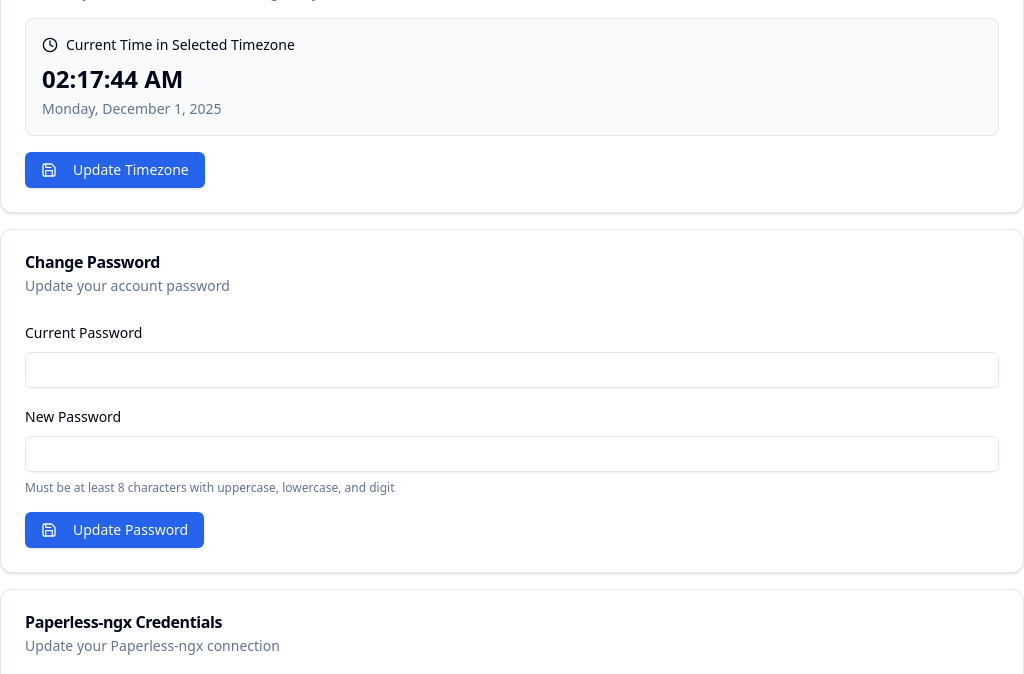
SettingsPage › allows password change form submission
(page scrolled)
Type "oldpassword123" into the password field labelled "Current Password" at (512, 370), box [25,352,999,388]
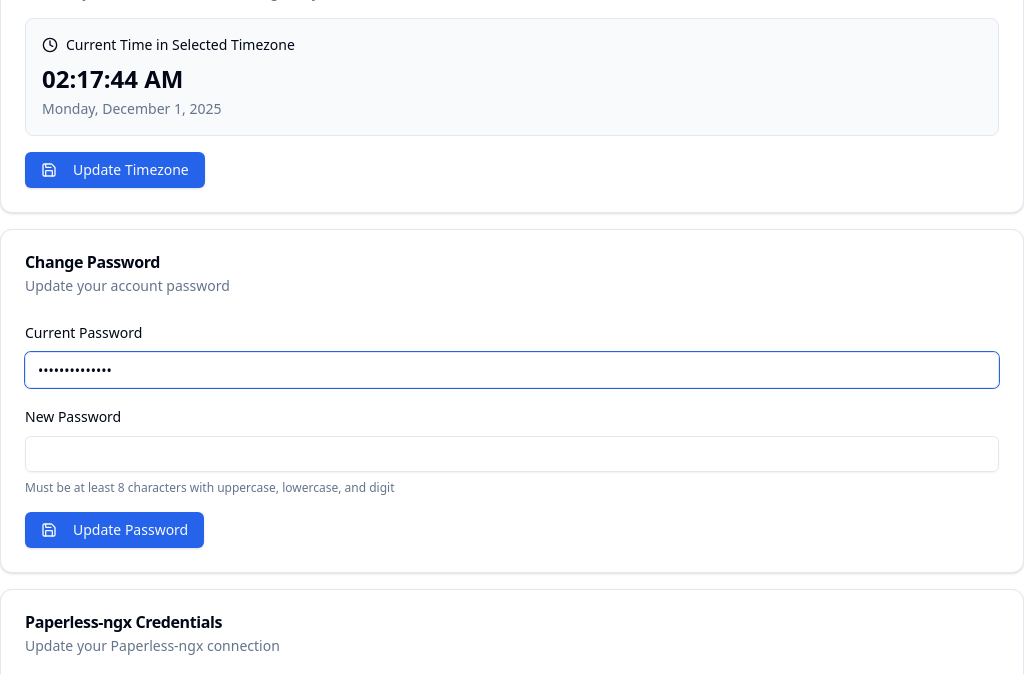
Type "NewPassword123" into the password field labelled "New Password" at (512, 454), box [25,436,999,472]
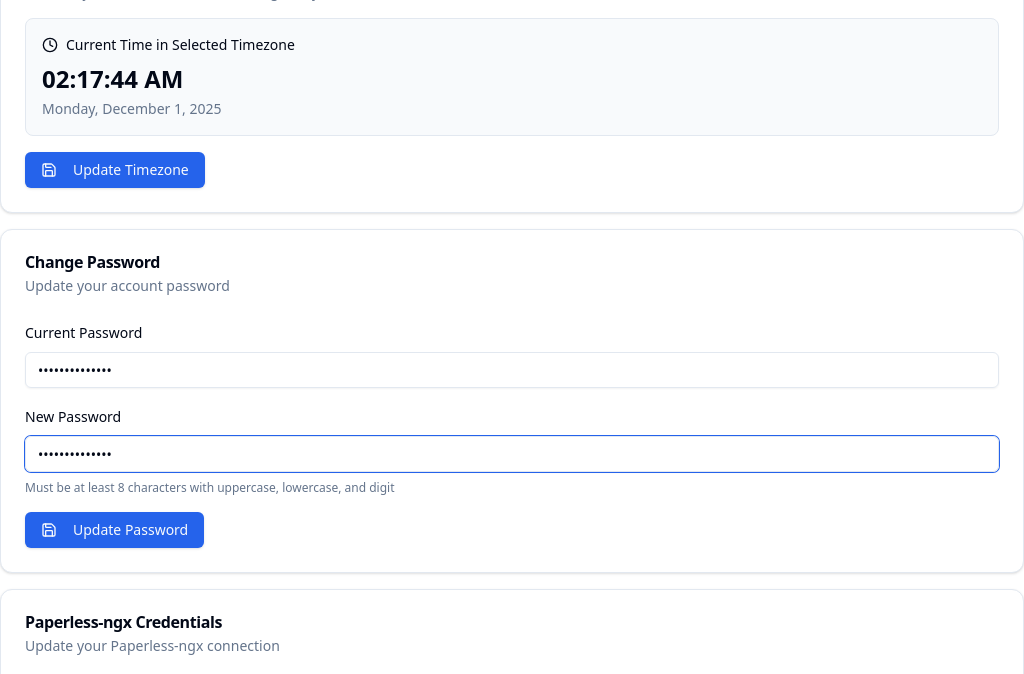
Click the button "Update Password" at (115, 530), box [25,512,204,548]
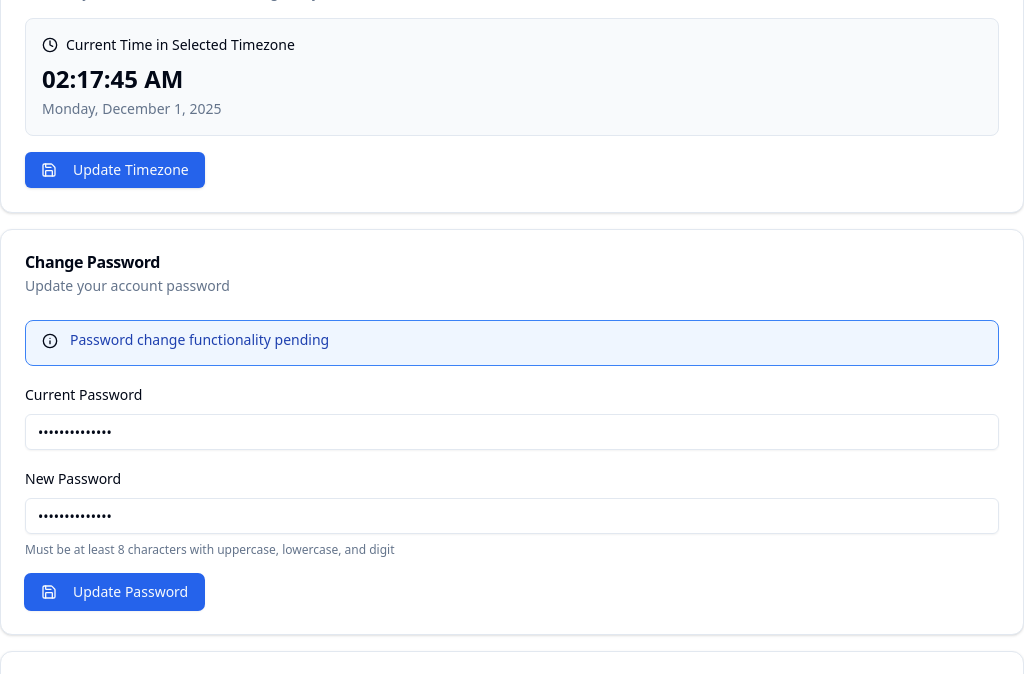
Expected: the text "Password change functionality pending" is shown, [70,330,329,349]
